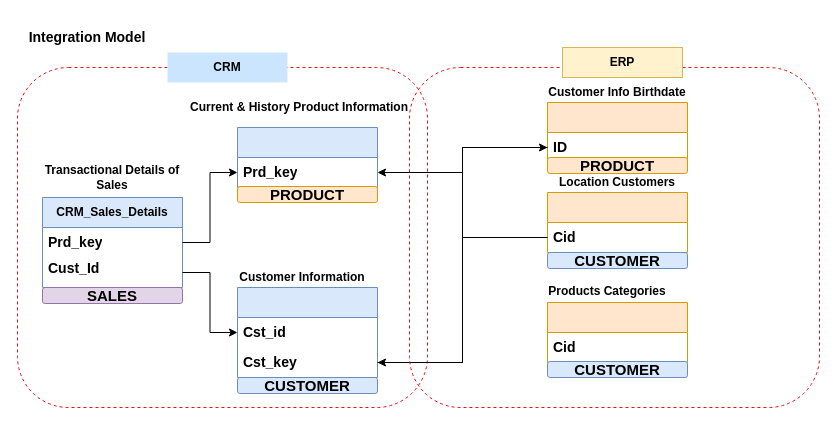
Image size: 837x425. Some labels were removed from this diagram. Each missing label, with the box of its shape:
CRM_Cust_Info: (236, 286, 378, 378)
CRM_Prd_Info: (236, 126, 378, 188)
ERP_cust_az_12: (546, 102, 688, 162)
ERP_LOC_A101: (546, 192, 688, 252)
ERP_PX_CAT_G1V2: (546, 302, 688, 362)
